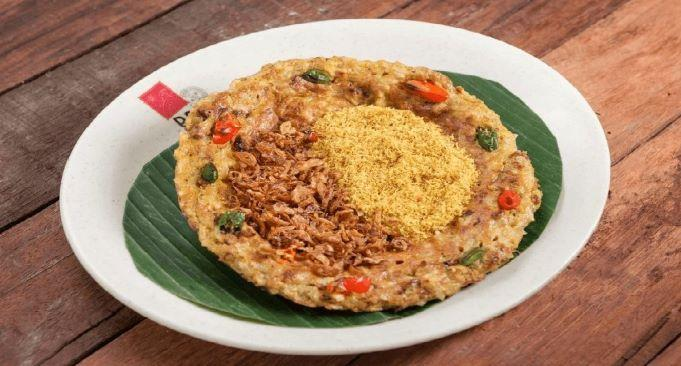kerak_telor: (172, 56, 543, 313)
